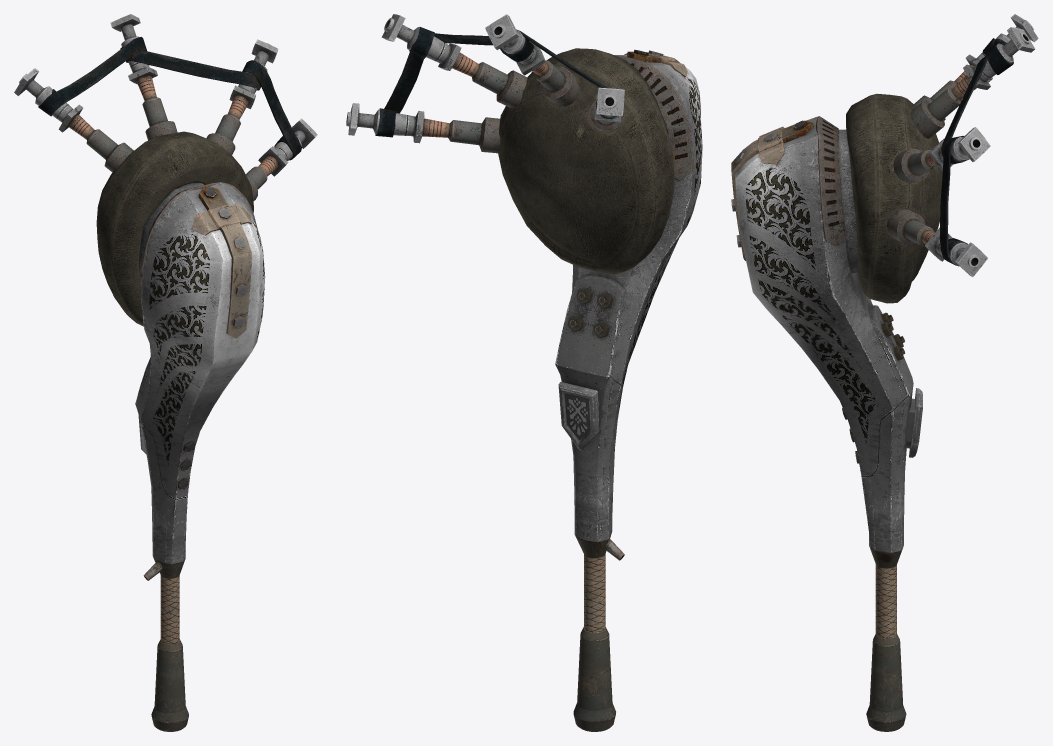
The model's file is bs_hue011.obj.
The picture shows the model from 3 angles, left to right: view 1: azimuth 30°, elevation 25°; view 2: azimuth 150°, elevation 25°; view 3: azimuth 270°, elevation 25°; orthographic projection. The views are drawn at different scales.
Visible parts, largest first — view 1: bs_hue011_001_LOD_1, bs_hue011_002_LOD_1, bs_hue011_000_LOD_1; view 2: bs_hue011_001_LOD_1, bs_hue011_000_LOD_1, bs_hue011_002_LOD_1; view 3: bs_hue011_001_LOD_1, bs_hue011_000_LOD_1, bs_hue011_002_LOD_1.
Part boxes in pixels (left/top/right/bottom): bs_hue011_001_LOD_1: left=135, top=182, right=265, bottom=731; bs_hue011_002_LOD_1: left=14, top=14, right=317, bottom=201; bs_hue011_000_LOD_1: left=96, top=131, right=253, bottom=326; bs_hue011_001_LOD_1: left=555, top=49, right=702, bottom=731; bs_hue011_000_LOD_1: left=498, top=48, right=674, bottom=274; bs_hue011_002_LOD_1: left=348, top=14, right=624, bottom=153; bs_hue011_001_LOD_1: left=731, top=116, right=922, bottom=731; bs_hue011_000_LOD_1: left=846, top=93, right=942, bottom=303; bs_hue011_002_LOD_1: left=886, top=14, right=1038, bottom=276.
Bounding box in the file's own units: 130 × 304 × 120.
